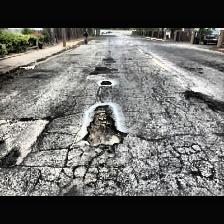pothole: (82, 104, 126, 146), (100, 79, 112, 85)
